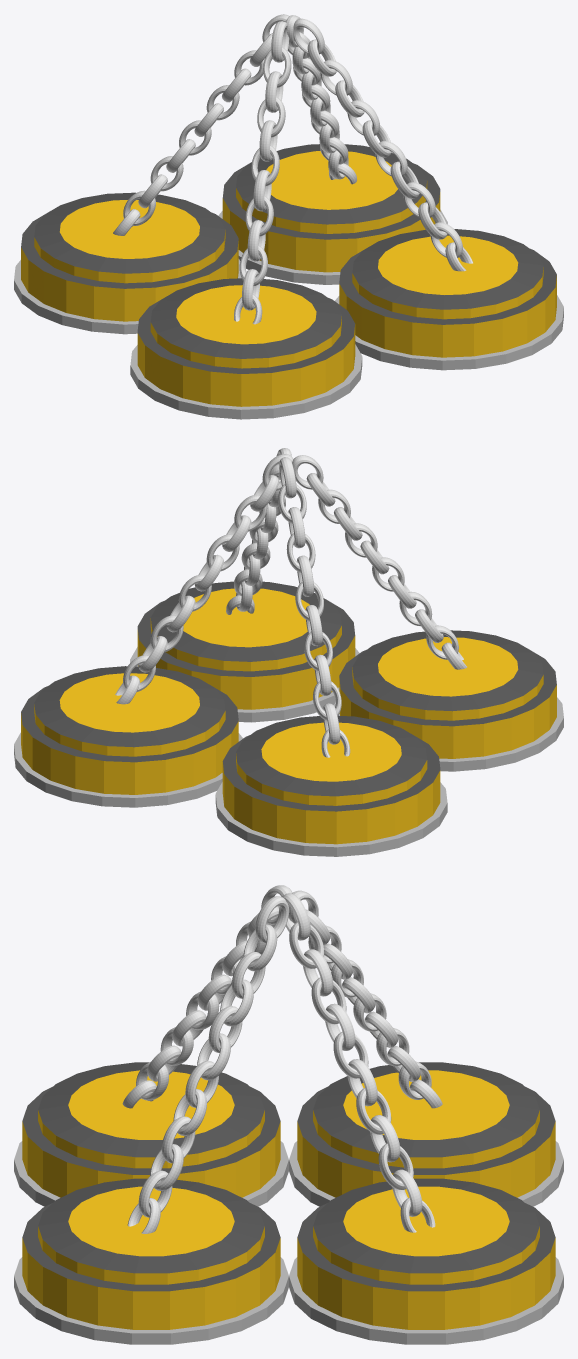
File: Magnet3.1.fbx
3 renders of one model, top to bottom at view 1: azimuth 30°, elevation 25°; view 2: azimuth 150°, elevation 25°; view 3: azimuth 270°, elevation 25°, orthographic. The views are drawn at different scales.
Visible parts, largest first — view 1: Cylinder.009, Cylinder.003, Cylinder.001, Cylinder.006, Cylinder.008, Cylinder.004, Cylinder.002, Cylinder.007, Torus.006, Torus.004, Torus.017, Torus.007 (+13 smaller); view 2: Cylinder.001, Cylinder.006, Cylinder.009, Cylinder.003, Cylinder.002, Cylinder.007, Cylinder.008, Cylinder.004, Torus.041, Torus.031, Torus.028, Torus.033 (+7 smaller); view 3: Cylinder.006, Cylinder.003, Cylinder.001, Cylinder.009, Cylinder.007, Cylinder.004, Cylinder.008, Cylinder.002, Torus.006, Torus.027, Torus.032, Torus.030 (+28 smaller).
Boxes of the visible parts, bbox=[...] form: Cylinder.009: bbox=[137, 278, 355, 406]; Cylinder.003: bbox=[339, 229, 556, 357]; Cylinder.001: bbox=[21, 192, 238, 321]; Cylinder.006: bbox=[222, 144, 440, 272]; Cylinder.008: bbox=[130, 344, 362, 419]; Cylinder.004: bbox=[335, 295, 563, 370]; Cylinder.002: bbox=[14, 259, 241, 334]; Cylinder.007: bbox=[218, 209, 447, 284]; Torus.006: bbox=[293, 18, 324, 54]; Torus.004: bbox=[390, 161, 419, 198]; Torus.017: bbox=[271, 21, 289, 62]; Torus.007: bbox=[307, 39, 336, 76]; Cylinder.001: bbox=[222, 715, 440, 844]; Cylinder.006: bbox=[21, 666, 238, 794]; Cylinder.009: bbox=[339, 630, 556, 758]; Cylinder.003: bbox=[137, 581, 355, 709]; Cylinder.002: bbox=[215, 782, 447, 856]; Cylinder.007: bbox=[14, 732, 242, 807]; Cylinder.008: bbox=[334, 697, 563, 771]; Cylinder.004: bbox=[130, 647, 359, 722]; Torus.041: bbox=[279, 457, 296, 498]; Torus.031: bbox=[166, 595, 195, 632]; Torus.028: bbox=[250, 475, 279, 511]; Torus.033: bbox=[138, 636, 167, 672]; Cylinder.006: bbox=[297, 1178, 555, 1329]; Cylinder.003: bbox=[22, 1178, 280, 1329]; Cylinder.001: bbox=[297, 1062, 555, 1197]; Cylinder.009: bbox=[22, 1062, 280, 1197]; Cylinder.007: bbox=[289, 1257, 563, 1344]; Cylinder.004: bbox=[14, 1257, 288, 1344]; Cylinder.008: bbox=[14, 1141, 288, 1206]; Cylinder.002: bbox=[289, 1141, 563, 1206]; Torus.006: bbox=[255, 896, 289, 943]; Torus.027: bbox=[303, 949, 333, 996]; Torus.032: bbox=[370, 1115, 400, 1162]; Torus.030: bbox=[347, 1059, 377, 1106].
Bounding box in the file's own units: 398 × 270 × 400.
9 materials, 8 textured.
